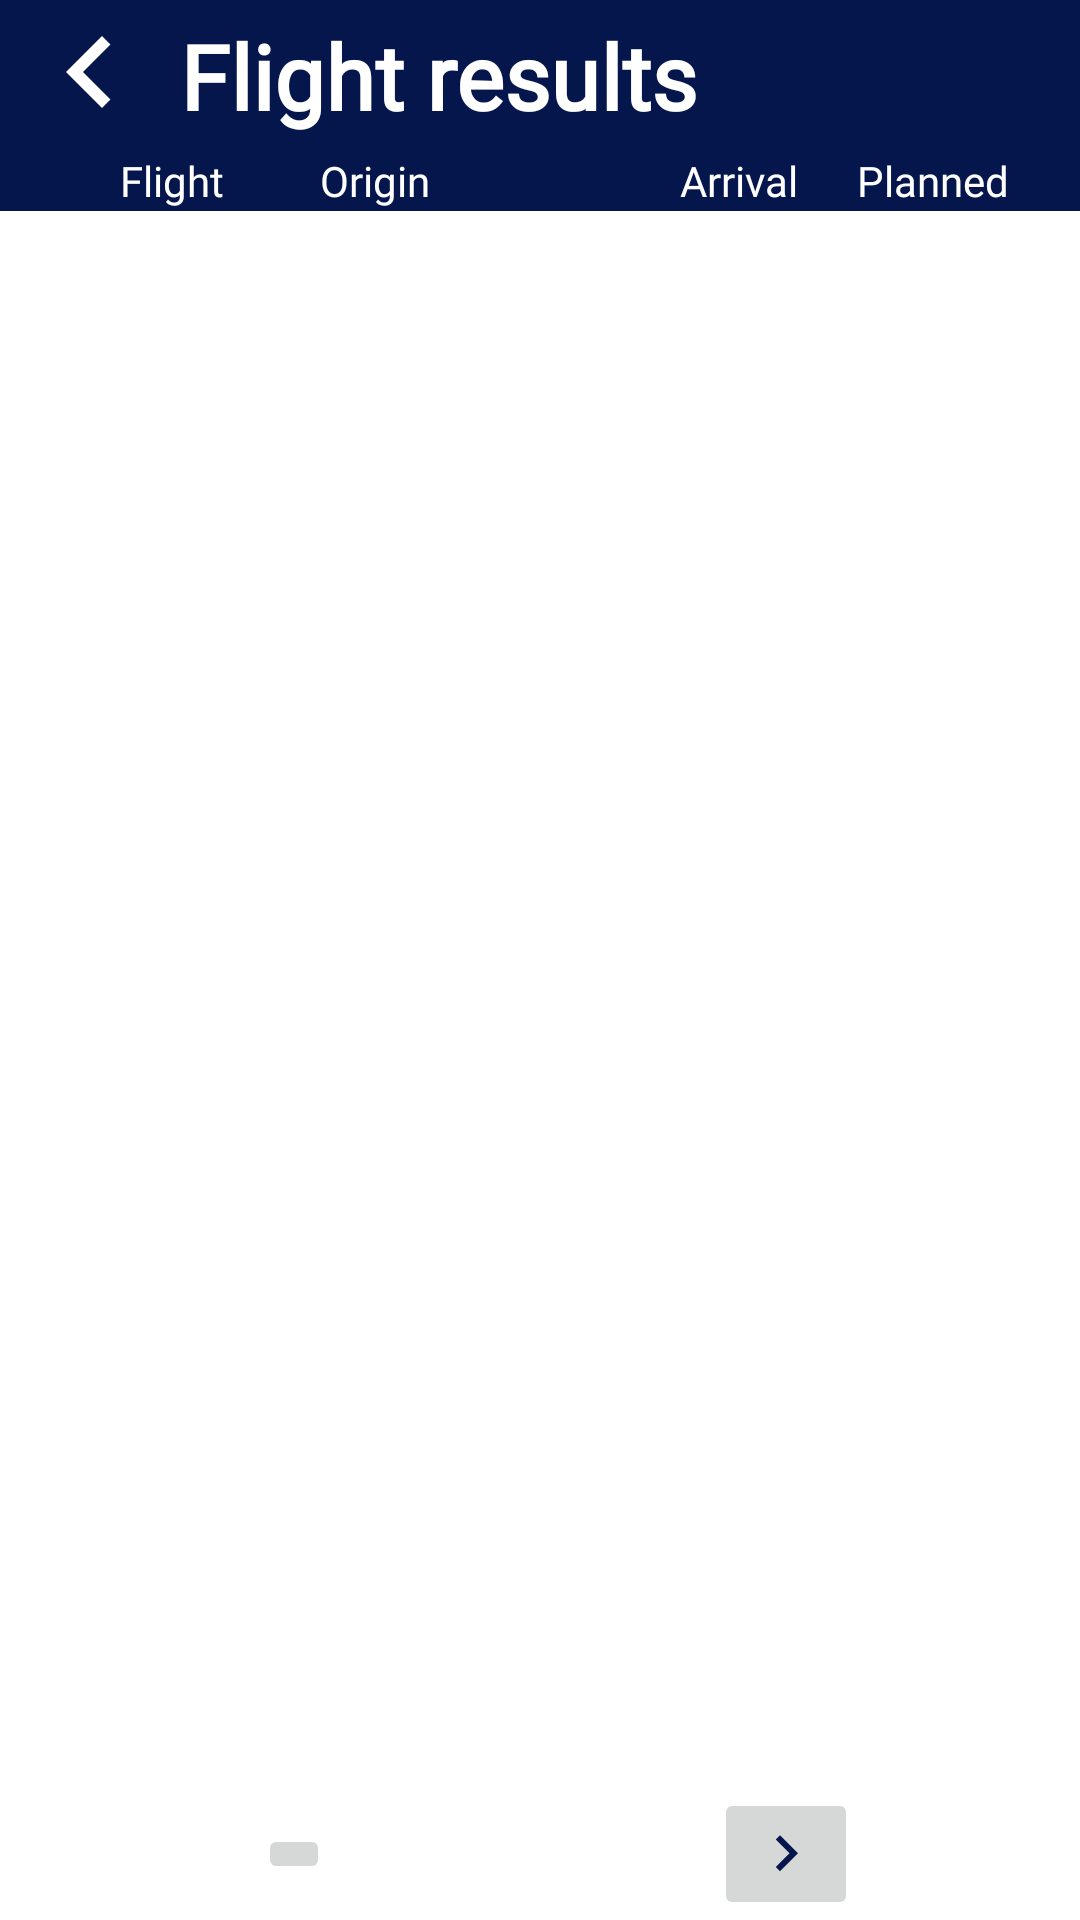

Icon bounding boxes for this 1080px×1920px phone screenshot, format (x1, y1, x2, y2):
forward arrow: (726, 1806, 846, 1902)
keyboard arrow left: (66, 36, 111, 108)
